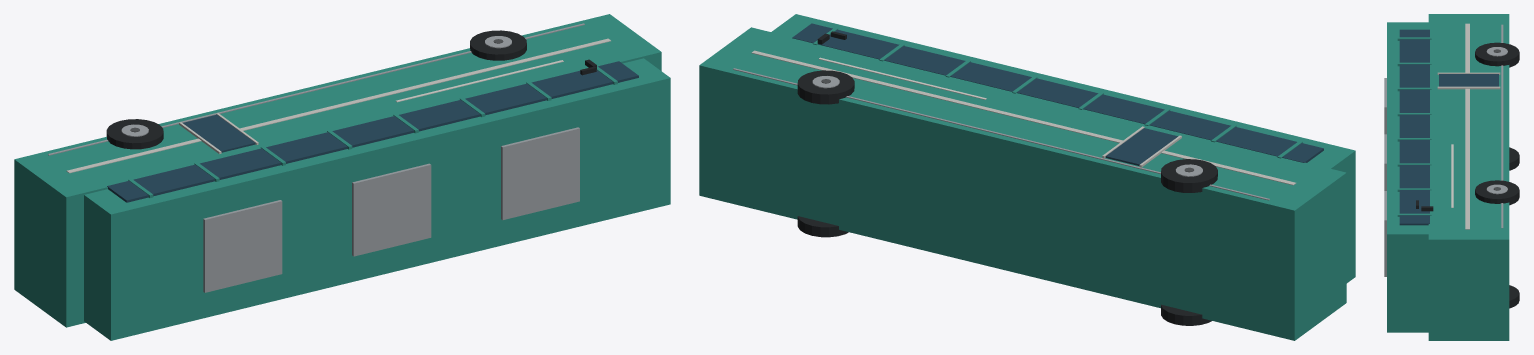
Rendered from RM_Bus_45.glb.
The picture shows the model from 3 angles, left to right: view 1: azimuth 30°, elevation 25°; view 2: azimuth 150°, elevation 25°; view 3: azimuth 270°, elevation 25°; orthographic projection. The views are drawn at different scales.
Visible parts, largest first — view 1: part_001, part_000, part_002, part_037, part_038, part_039, part_013, part_040, part_024, part_030, part_014; view 2: part_000, part_002, part_001, part_013, part_040, part_030, part_024, part_014, part_027, part_021; view 3: part_000, part_001, part_002, part_013, part_030, part_040, part_024, part_014, part_039, part_042, part_027, part_021 (+6 smaller).
Part boxes in pixels (box(x1,y1,x2,y2)): part_001: box(84, 58, 670, 340); part_000: box(14, 14, 661, 327); part_002: box(107, 61, 638, 202); part_037: box(203, 200, 282, 292); part_038: box(352, 163, 431, 256); part_039: box(501, 127, 579, 220); part_013: box(66, 38, 610, 173); part_040: box(183, 114, 255, 152); part_024: box(106, 119, 163, 149); part_030: box(470, 30, 526, 60); part_014: box(48, 23, 584, 155); part_000: box(699, 27, 1346, 340); part_002: box(792, 23, 1323, 162); part_001: box(771, 14, 1355, 283); part_013: box(751, 50, 1296, 185); part_040: box(1105, 128, 1177, 165); part_030: box(797, 70, 854, 104); part_024: box(1161, 159, 1217, 192); part_014: box(733, 68, 1269, 200); part_027: box(797, 216, 848, 237); part_021: box(1161, 304, 1211, 325); part_000: box(1428, 14, 1509, 340); part_001: box(1387, 22, 1428, 332); part_002: box(1399, 29, 1429, 225); part_013: box(1465, 23, 1469, 229); part_030: box(1475, 180, 1519, 205); part_040: box(1439, 74, 1498, 86); part_024: box(1475, 42, 1519, 67); part_014: box(1501, 24, 1503, 228); part_039: box(1384, 191, 1386, 276); part_042: box(1437, 86, 1500, 89); part_027: box(1509, 285, 1519, 308); part_021: box(1509, 147, 1519, 170).
Bounding box in the file's own units: 12.48 × 2.93 × 3.16.
